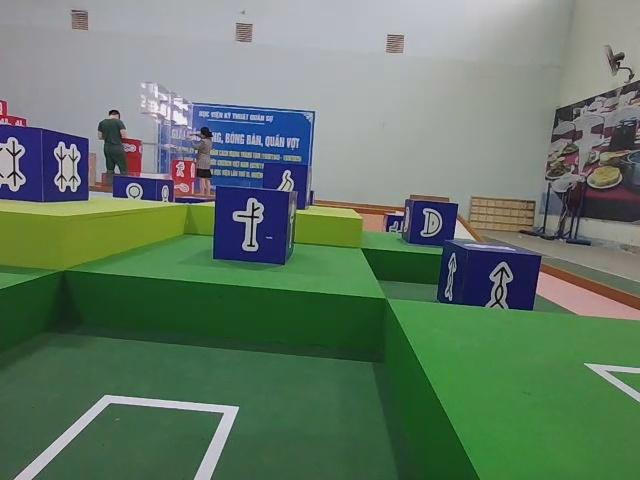R2 Real Blue: (435, 241, 542, 313), (0, 125, 87, 205), (212, 187, 296, 268), (402, 200, 458, 248), (262, 161, 311, 208), (112, 175, 173, 201)
